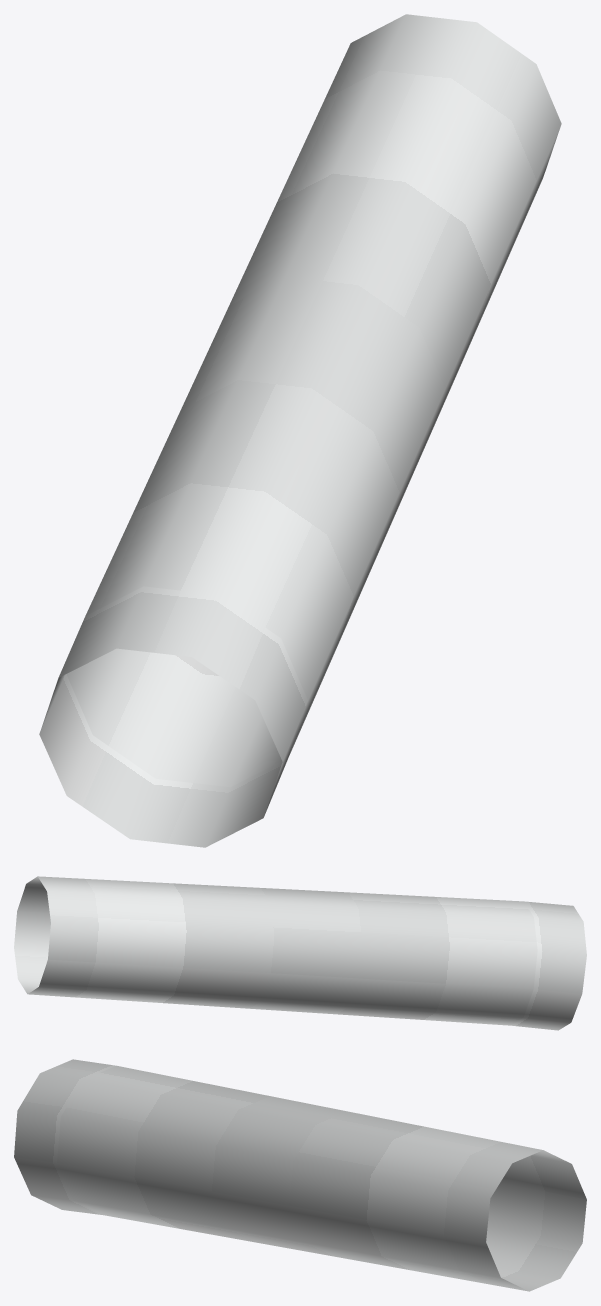
File: nycsignalarm_diagonal6_c3.obj
3 renders of one model, top to bottom at view 1: azimuth 30°, elevation 25°; view 2: azimuth 150°, elevation 25°; view 3: azimuth 270°, elevation 25°, orthographic. The views are drawn at different scales.
Parts seen in each view (by area): view 1: nycsignalarm_diagonal6_c3; view 2: nycsignalarm_diagonal6_c3; view 3: nycsignalarm_diagonal6_c3.
Boxes of the visible parts, left/top/right/bottom form: nycsignalarm_diagonal6_c3: left=39, top=14, right=561, bottom=847; nycsignalarm_diagonal6_c3: left=14, top=876, right=586, bottom=1030; nycsignalarm_diagonal6_c3: left=14, top=1059, right=586, bottom=1291.
Bounding box in the file's own units: 1.22 × 0.5555 × 1.22.
